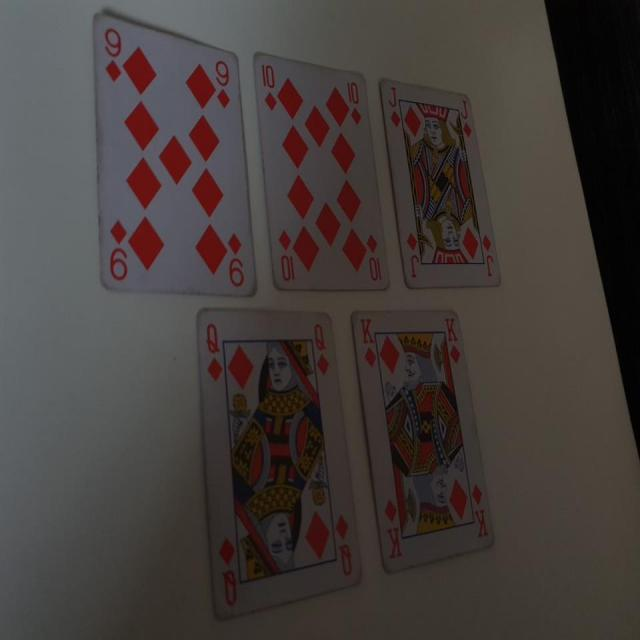10 Diamonds: (253, 50, 392, 293)
9 Diamonds: (90, 11, 258, 298)
J Diamonds: (377, 77, 505, 290)
K Diamonds: (352, 306, 498, 578)
Q Diamonds: (197, 308, 365, 618)
